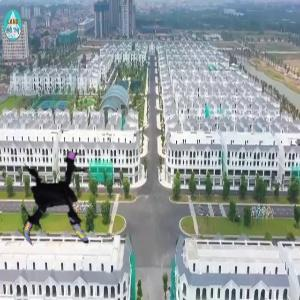drone: (1, 140, 115, 254)
